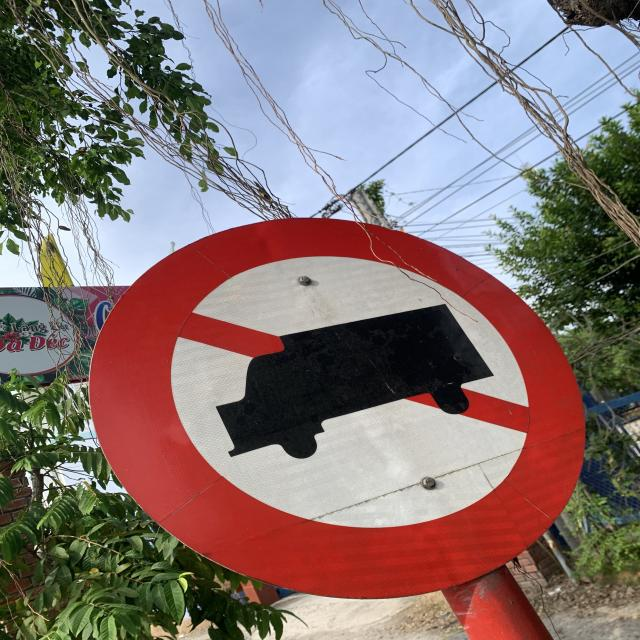Cam_Xe_Tai: (82, 212, 598, 606)
